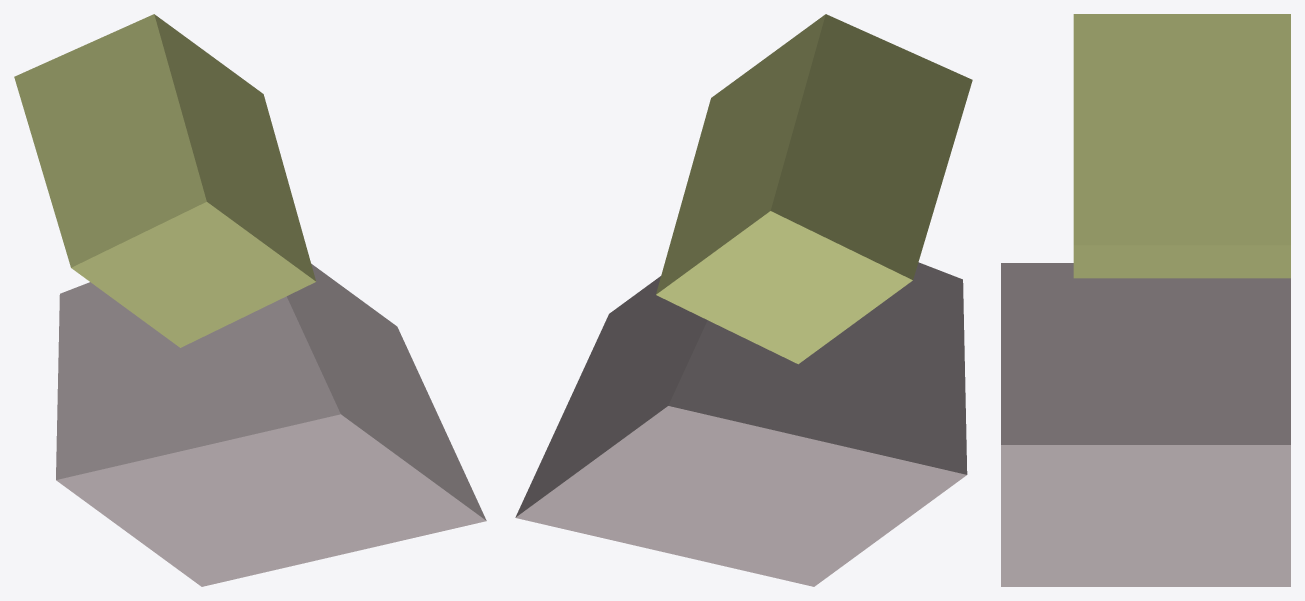
The picture shows the model from 3 angles, left to right: view 1: azimuth 30°, elevation 25°; view 2: azimuth 150°, elevation 25°; view 3: azimuth 270°, elevation 25°; orthographic projection. The views are drawn at different scales.
Parts seen in each view (by area): view 1: 0_0_1_2_0_0_0_2_2_0; view 2: 0_0_1_2_0_0_0_2_2_0; view 3: 0_0_1_2_0_0_0_2_2_0.
Part boxes in pixels (x1,y1,x2,y2): 0_0_1_2_0_0_0_2_2_0: (14, 14, 486, 586); 0_0_1_2_0_0_0_2_2_0: (515, 14, 972, 586); 0_0_1_2_0_0_0_2_2_0: (1001, 14, 1290, 586).
Size of the model in its own units: 15.51 by 20.23 by 12.
